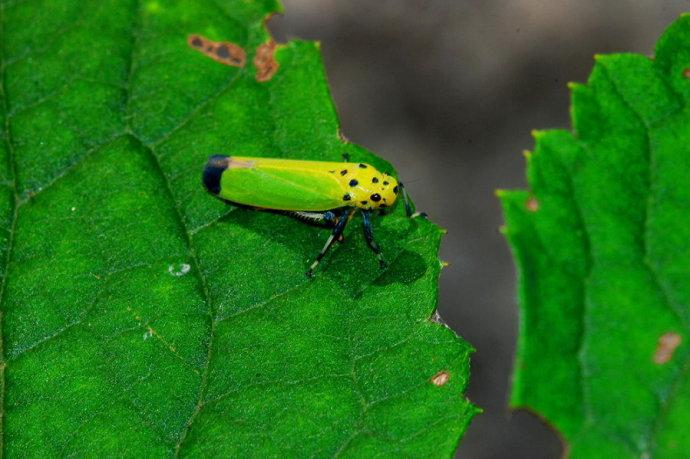Cicadellidae: (200, 153, 408, 271)
